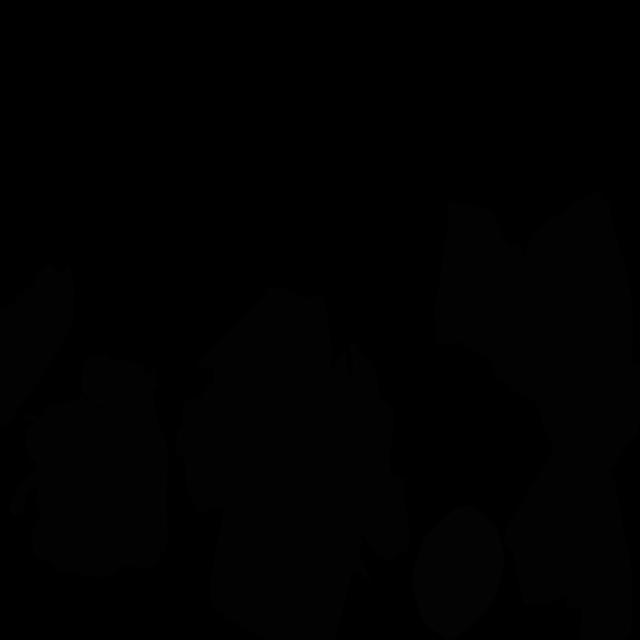cardboard: (174, 286, 332, 513), (435, 201, 568, 450), (210, 442, 373, 640), (526, 191, 640, 470), (9, 396, 168, 579), (504, 431, 632, 640), (320, 342, 410, 561), (0, 263, 74, 427), (80, 353, 160, 413)
metal: (412, 505, 504, 640)
